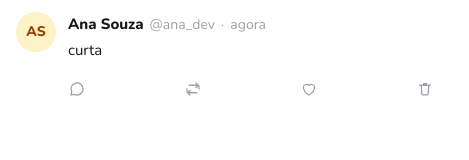
Test: <Feed> › curtir atualiza contador e estado a partir da resposta do servidor
Expected: the button named "Apagar" is shown, x1=408 y1=67 x2=452 y2=111
What coordinates should you click on to do the following:
click the button named "Curtir"
I would click on:
 (314, 89)
Its box is x1=292 y1=67 x2=336 y2=111.
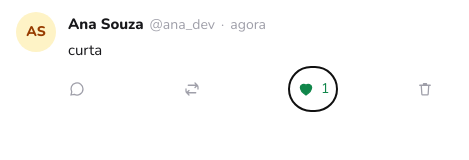
Now the button named "Descurtir" reads "1", box x1=289 y1=67 x2=338 y2=111
